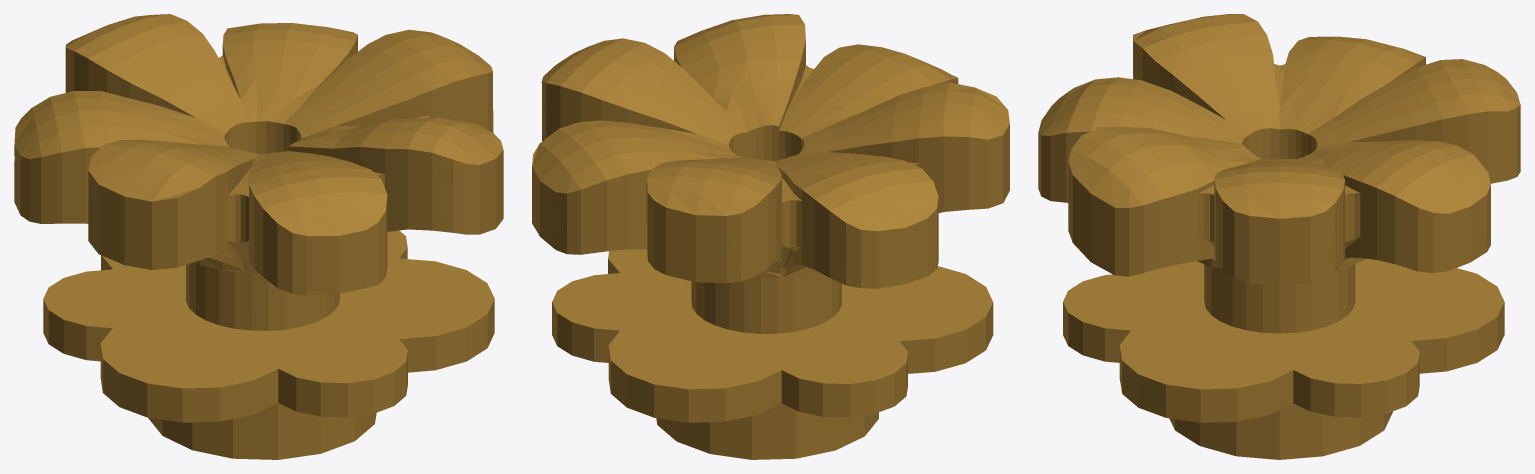
The model's file is SmallFlowers.dae.
3 views of the same model, side by side, from view 1: azimuth 30°, elevation 25°; view 2: azimuth 150°, elevation 25°; view 3: azimuth 270°, elevation 25° (orthographic). The views are drawn at different scales.
Parts seen in each view (by area): view 1: Part.1, Part.0; view 2: Part.1, Part.0; view 3: Part.1, Part.0.
Part boxes in pixels (bbox=[...]): Part.1: bbox=[14, 14, 503, 330]; Part.0: bbox=[43, 230, 494, 459]; Part.1: bbox=[532, 14, 1009, 333]; Part.0: bbox=[552, 249, 993, 459]; Part.1: bbox=[1038, 14, 1520, 333]; Part.0: bbox=[1063, 258, 1504, 459].
Size of the model in its own units: 10.03 by 7.37 by 10.21.
